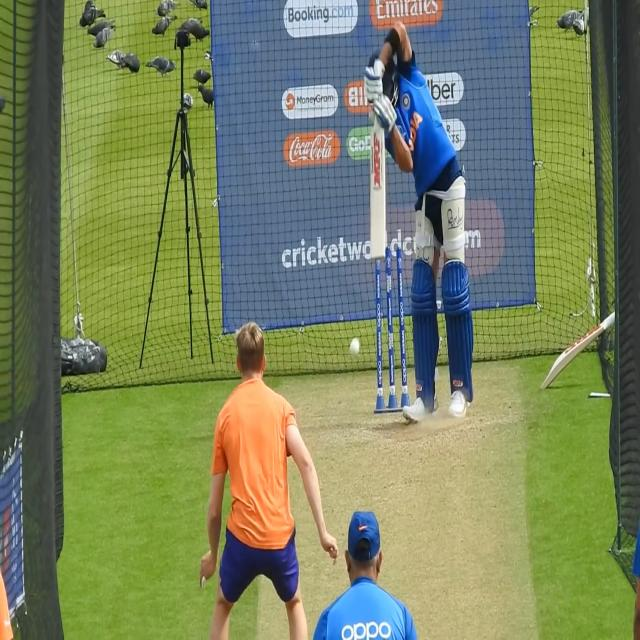ball: (348, 335, 363, 360)
stump: (373, 247, 405, 415)
